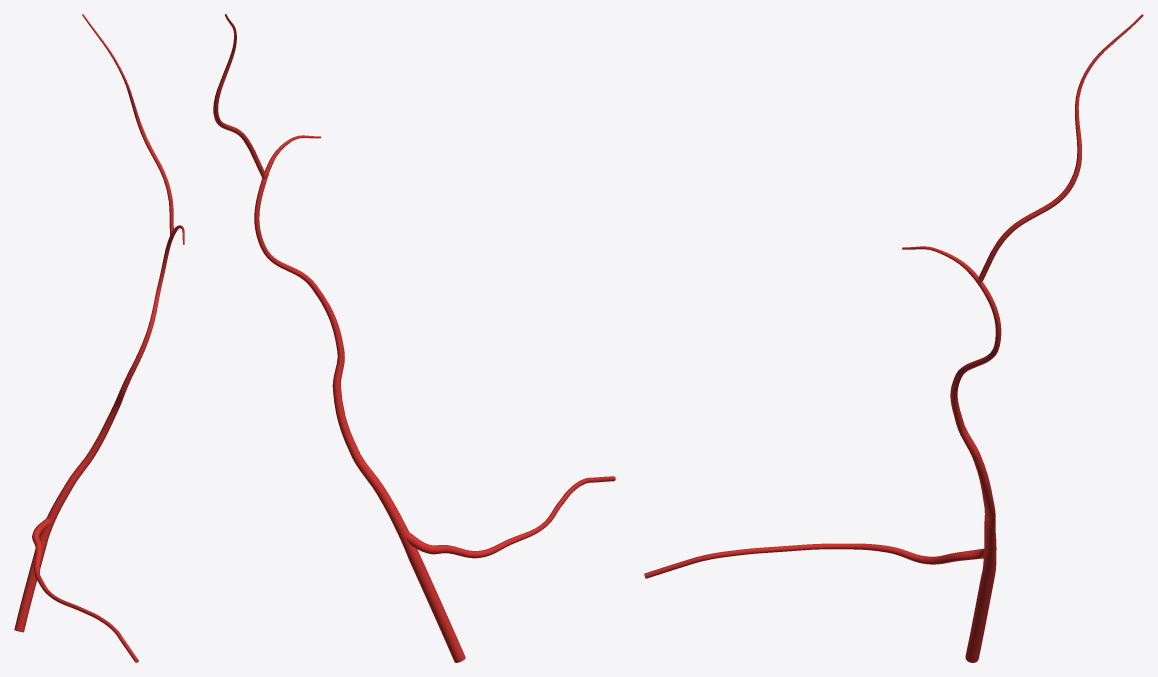
Rendered from circulatorio-anterior-division-of-retromandibular-vein-l.glb.
3 renders of one model, left to right at view 1: azimuth 30°, elevation 25°; view 2: azimuth 150°, elevation 25°; view 3: azimuth 270°, elevation 25°, orthographic. The views are drawn at different scales.
Parts seen in each view (by area): view 1: Superficial temporal veins.l, Maxillary veins.l, Anterior division of retromandibular vein.l, Retromandibular vein.l; view 2: Superficial temporal veins.l, Maxillary veins.l, Anterior division of retromandibular vein.l, Retromandibular vein.l; view 3: Superficial temporal veins.l, Maxillary veins.l, Anterior division of retromandibular vein.l.
Boxes of the visible parts, left/top/right/bottom form: Superficial temporal veins.l: left=66, top=14, right=184, bottom=486; Maxillary veins.l: left=32, top=518, right=138, bottom=662; Anterior division of retromandibular vein.l: left=14, top=545, right=46, bottom=632; Retromandibular vein.l: left=39, top=483, right=72, bottom=545; Superficial temporal veins.l: left=213, top=14, right=385, bottom=494; Maxillary veins.l: left=405, top=476, right=615, bottom=558; Anterior division of retromandibular vein.l: left=412, top=562, right=465, bottom=662; Retromandibular vein.l: left=377, top=489, right=422, bottom=567; Superficial temporal veins.l: left=902, top=14, right=1143, bottom=529; Maxillary veins.l: left=644, top=543, right=984, bottom=578; Anterior division of retromandibular vein.l: left=965, top=575, right=994, bottom=662.
Size of the model in its own units: 0.0506 by 0.1429 by 0.0887.
